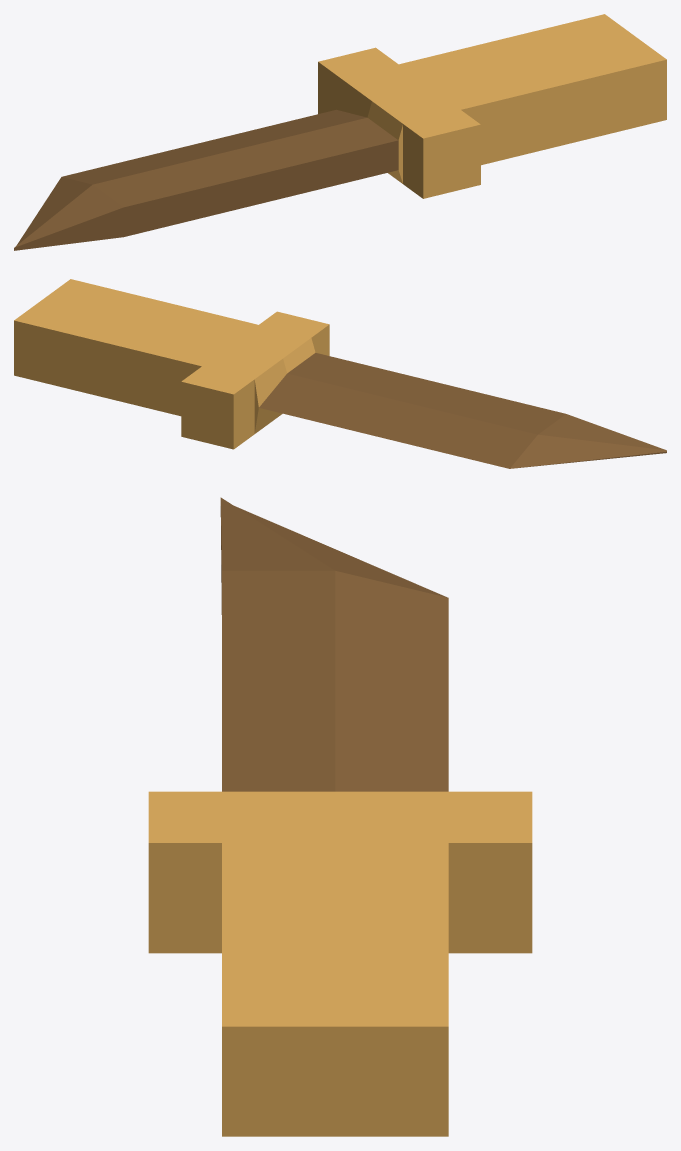
Rendered from bronze_knife.glb.
3 views of the same model, one above another, from view 1: azimuth 30°, elevation 25°; view 2: azimuth 150°, elevation 25°; view 3: azimuth 270°, elevation 25° (orthographic). The views are drawn at different scales.
Visible parts, largest first — view 1: Cube; view 2: Cube; view 3: Cube.
Boxes of the visible parts, x1,y1,x2,y2 form: Cube: (14, 14, 666, 250); Cube: (14, 279, 666, 468); Cube: (148, 497, 532, 1136).
Bounding box in the file's own units: 9.51 × 0.8393 × 2.65.
